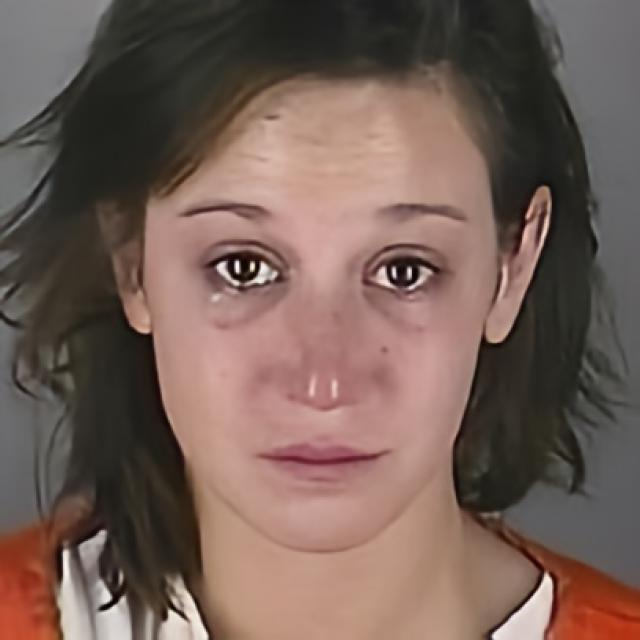sad: (142, 66, 499, 556)
